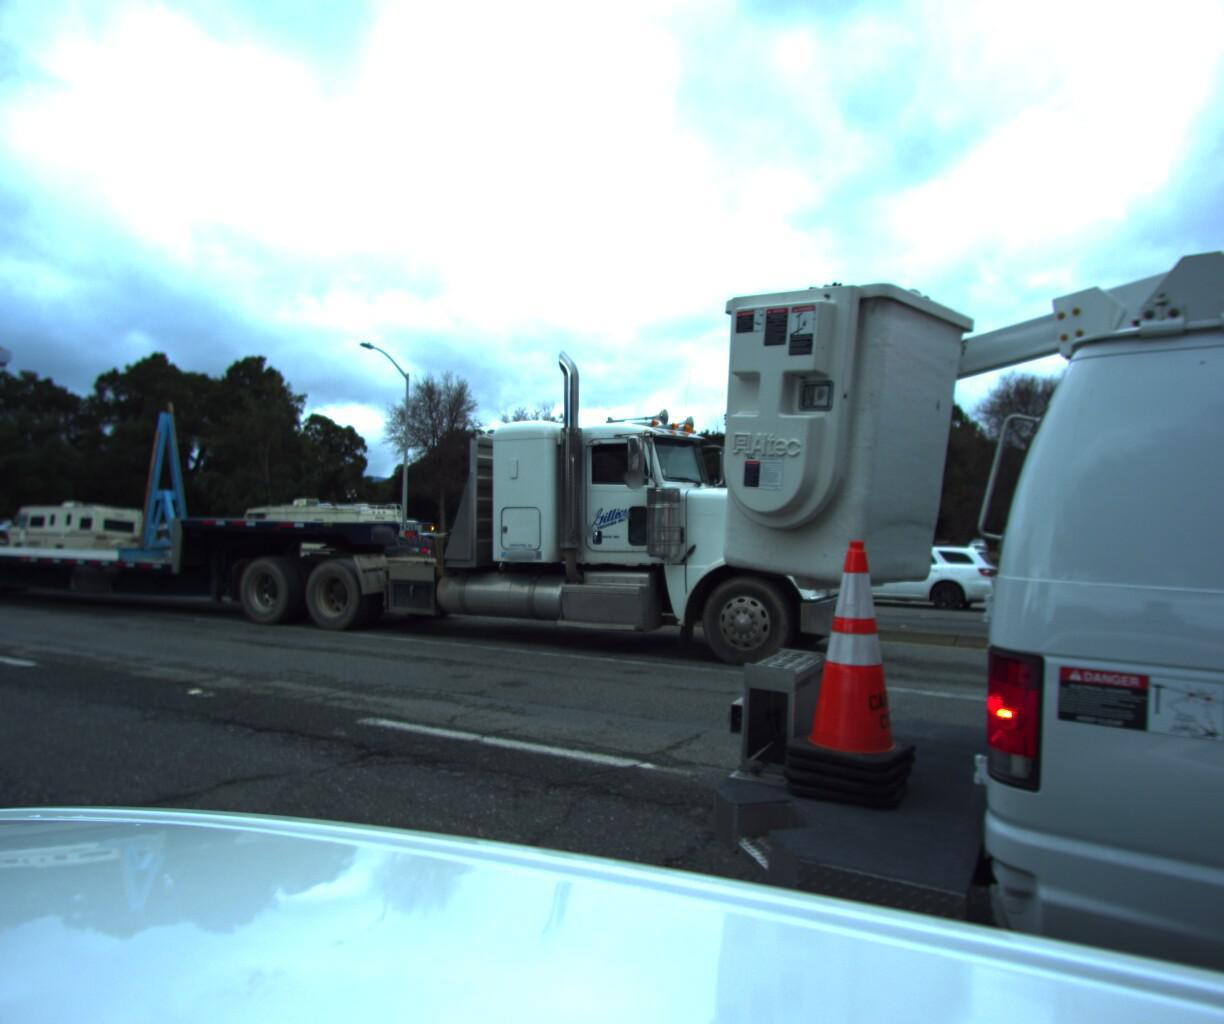car: (802, 536, 1005, 610), (332, 515, 465, 564), (0, 526, 8, 554)
other_vehicle: (225, 488, 416, 573), (2, 493, 150, 560)
truck: (0, 327, 929, 695)
